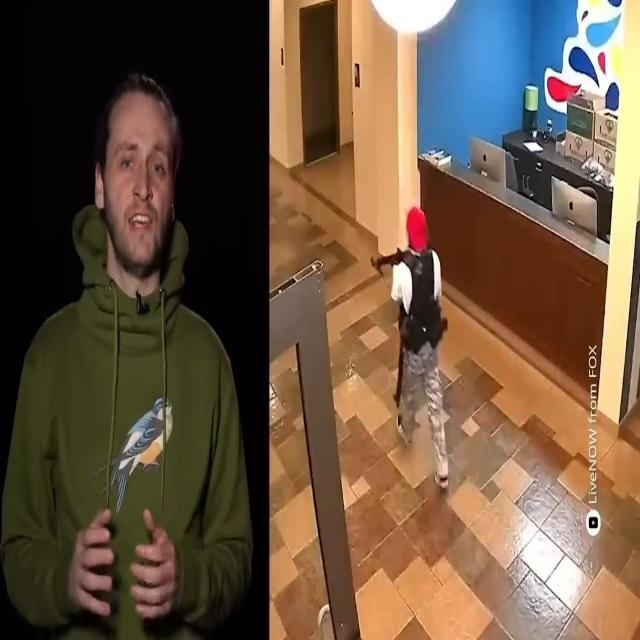pistol: (386, 328, 409, 410), (372, 240, 414, 278)
